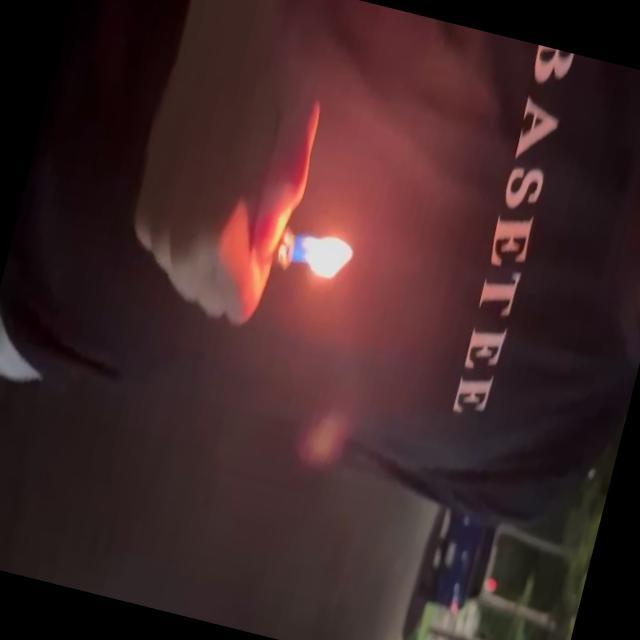Fire: (277, 225, 358, 294)
